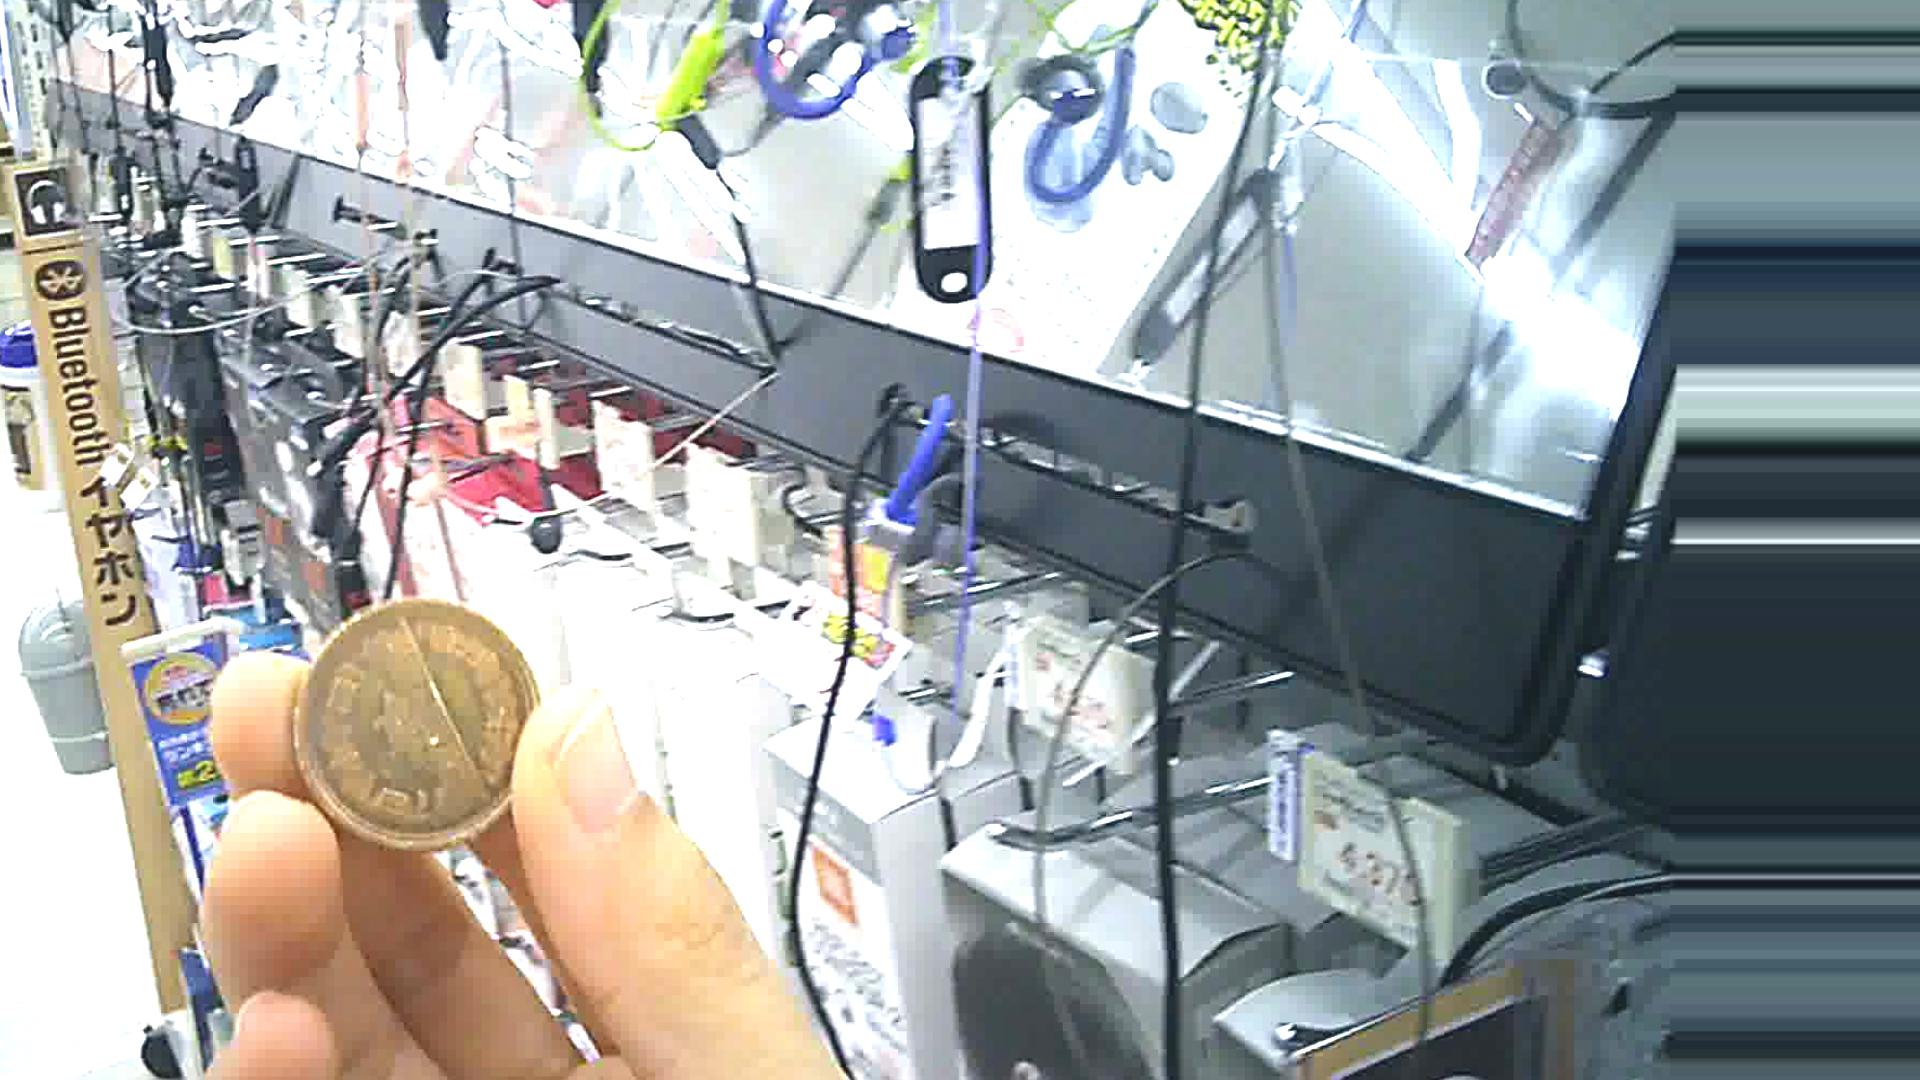10 Yen: (287, 593, 541, 866)
